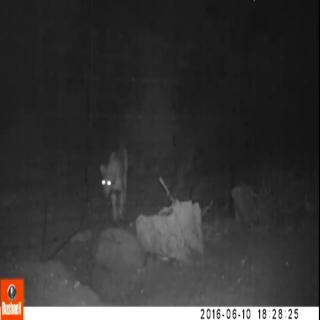Leopard: (86, 128, 132, 231)
